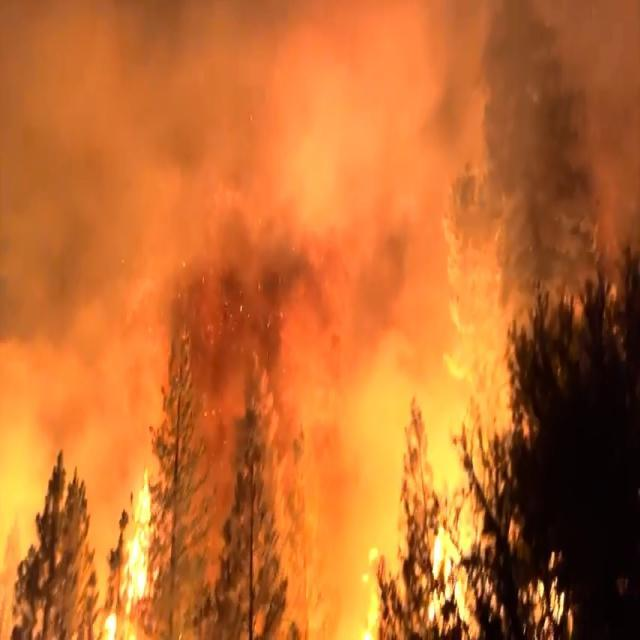Fire: (0, 215, 570, 636)
